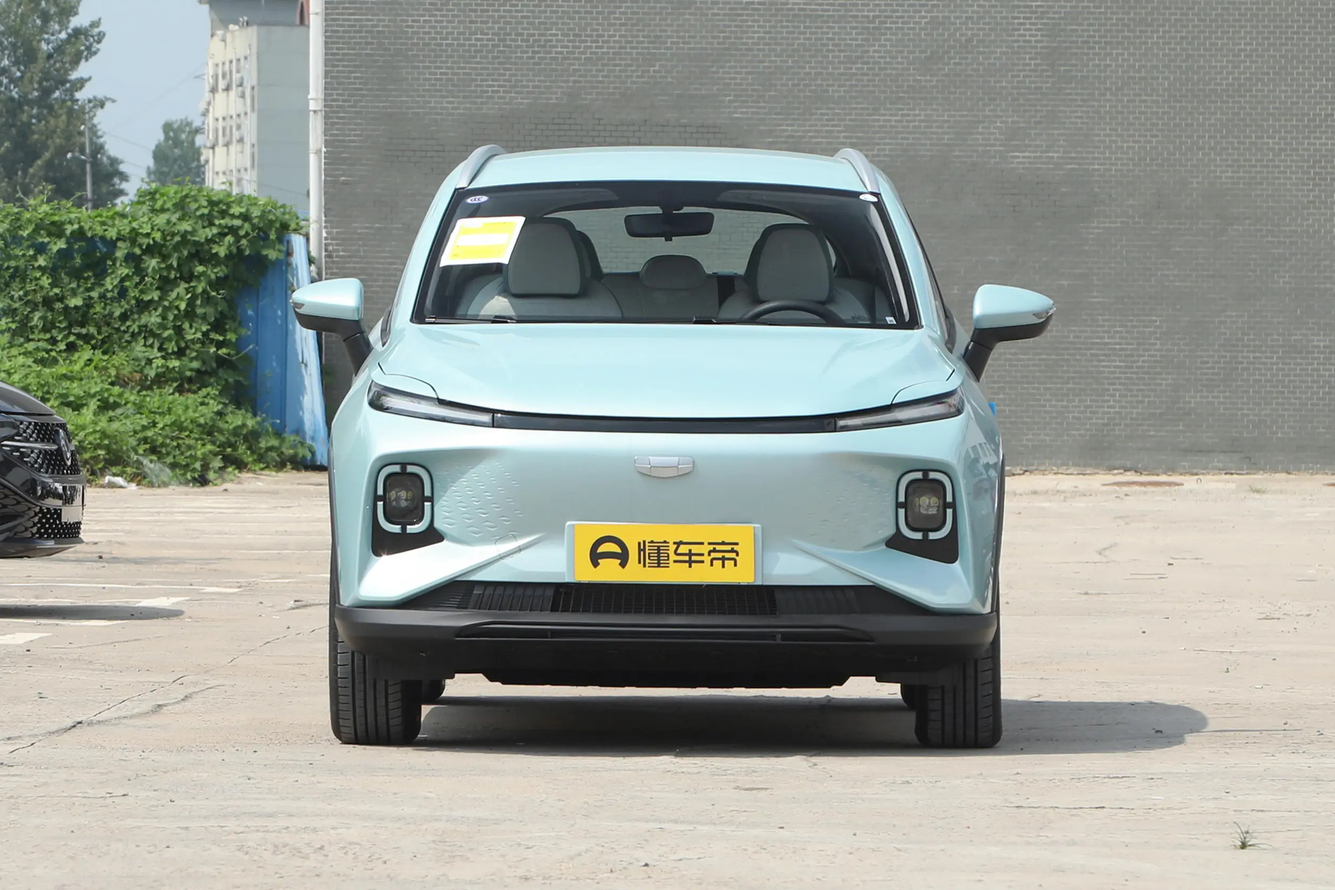GEOMETRY: (636, 457, 693, 477)
